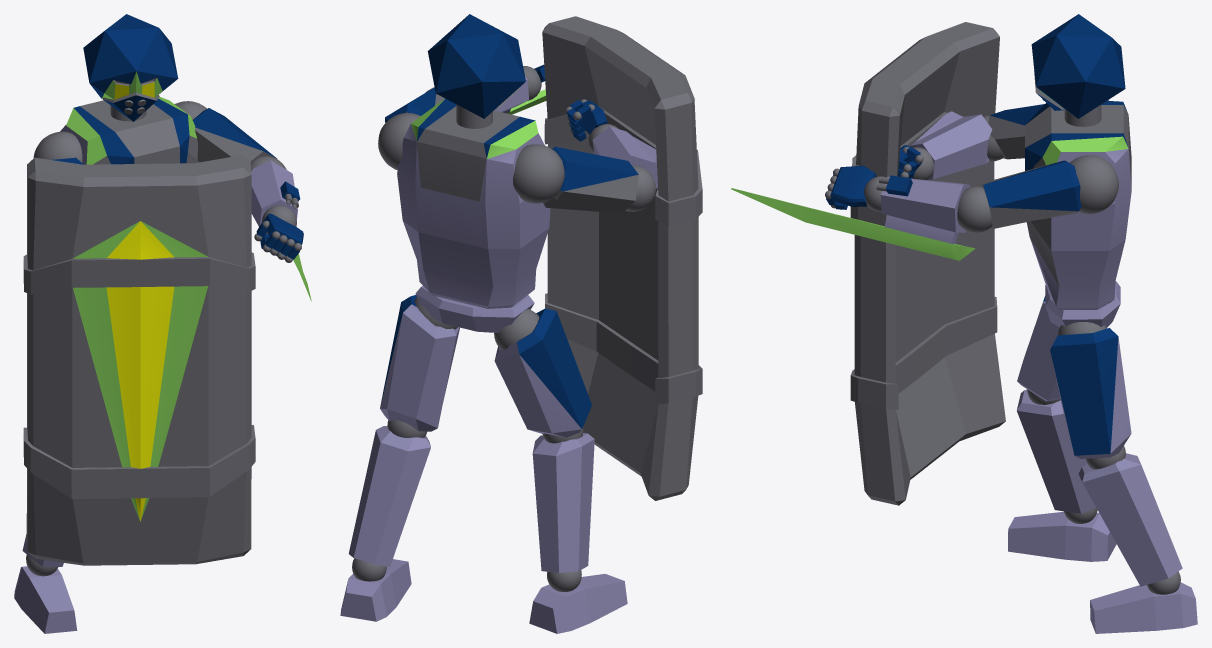
File: bruisergreen.fbx
3 renders of one model, left to right at view 1: azimuth 30°, elevation 25°; view 2: azimuth 150°, elevation 25°; view 3: azimuth 270°, elevation 25°, orthographic. The views are drawn at different scales.
Visible parts, largest first — view 1: polySurface302; view 2: polySurface302; view 3: polySurface302.
Part boxes in pixels (x1,y1,x2,y2): polySurface302: (14, 14, 311, 633); polySurface302: (340, 14, 702, 633); polySurface302: (731, 14, 1197, 633).
Size of the model in its own units: 6.63 by 13.38 by 9.95.
